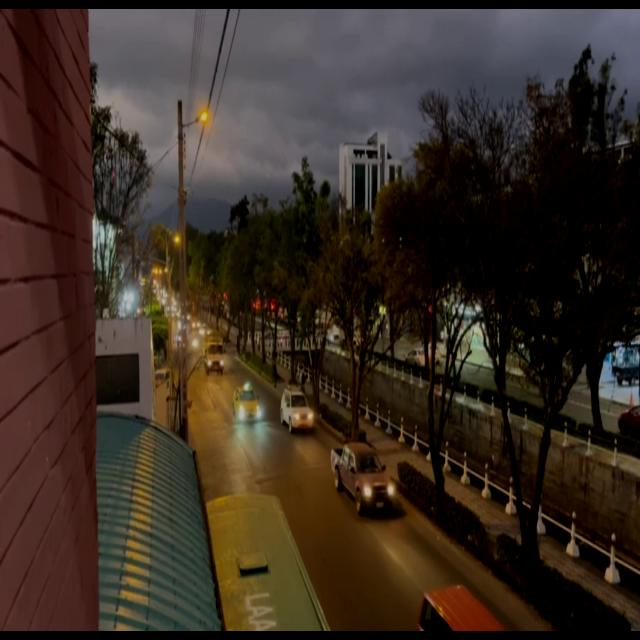CMT: (331, 447, 393, 512)
SED: (235, 390, 261, 423)
SUV: (282, 391, 312, 432)
TRUCK: (204, 338, 224, 375)
